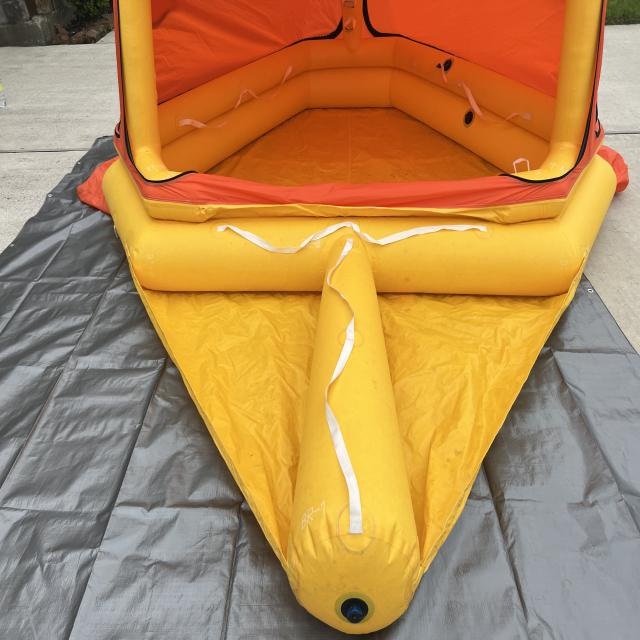Multi-person_life_raft: (77, 1, 631, 636)
